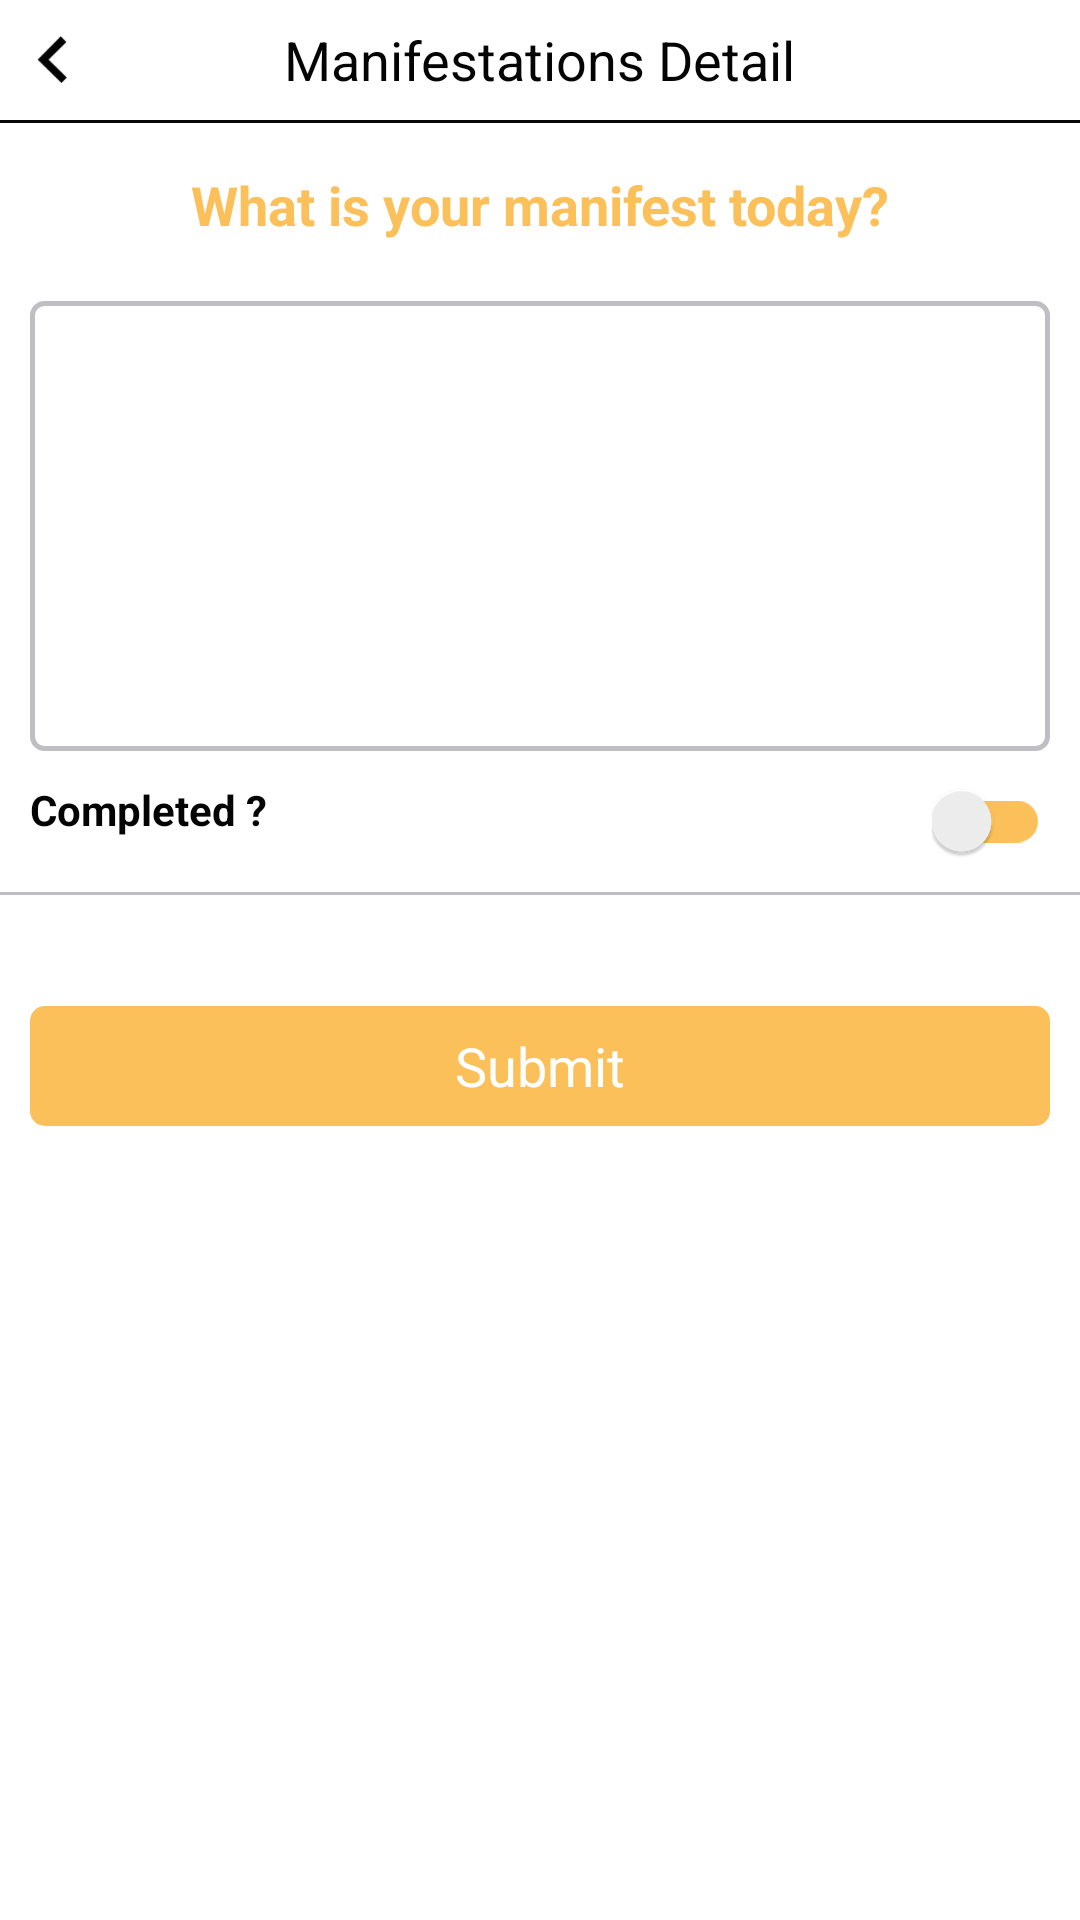

Locate icon controls on the screen. Image size 1080×1920, boxes as (x1, y1, x2, y2).
back arrow: (37, 36, 67, 83)
